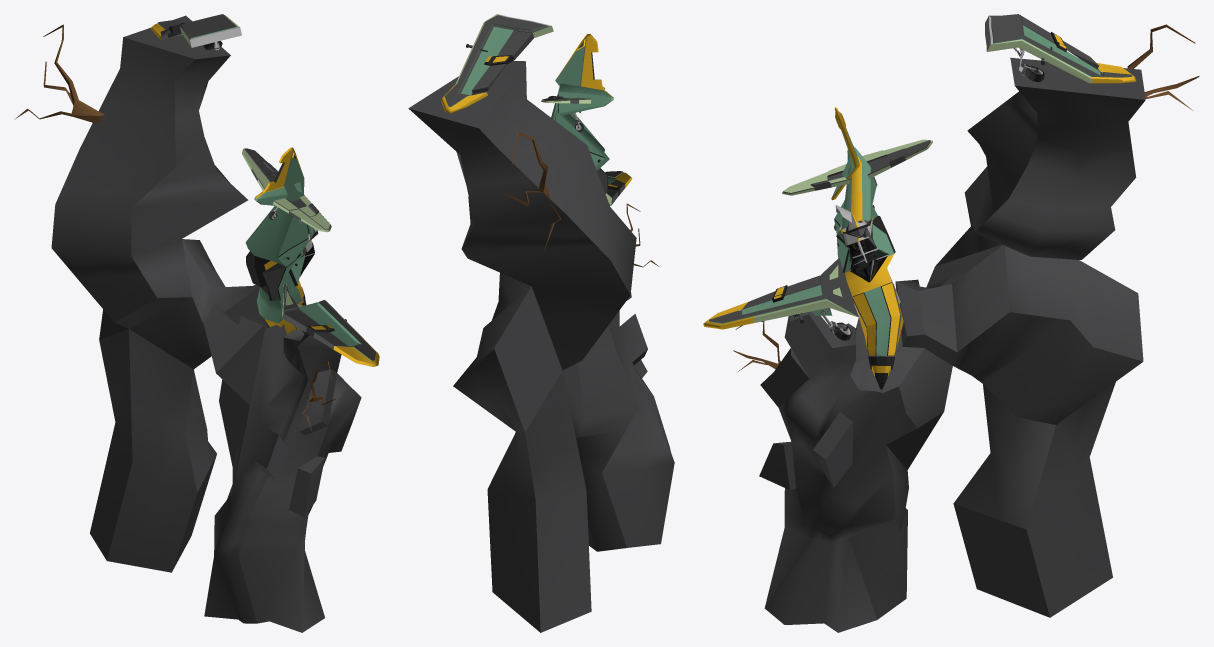
The model's file is Rocha4_with_plane_scenario.fbx.
The picture shows the model from 3 angles, left to right: view 1: azimuth 30°, elevation 25°; view 2: azimuth 150°, elevation 25°; view 3: azimuth 270°, elevation 25°; orthographic projection. The views are drawn at different scales.
Visible parts, largest first — view 1: polySurface162; view 2: polySurface162; view 3: polySurface162.
Boxes of the visible parts, x1=… form: polySurface162: x1=14, y1=14, x2=379, y2=632; polySurface162: x1=408, y1=14, x2=674, y2=632; polySurface162: x1=703, y1=14, x2=1199, y2=632.
Size of the model in its own units: 13.67 by 35.94 by 27.35.
